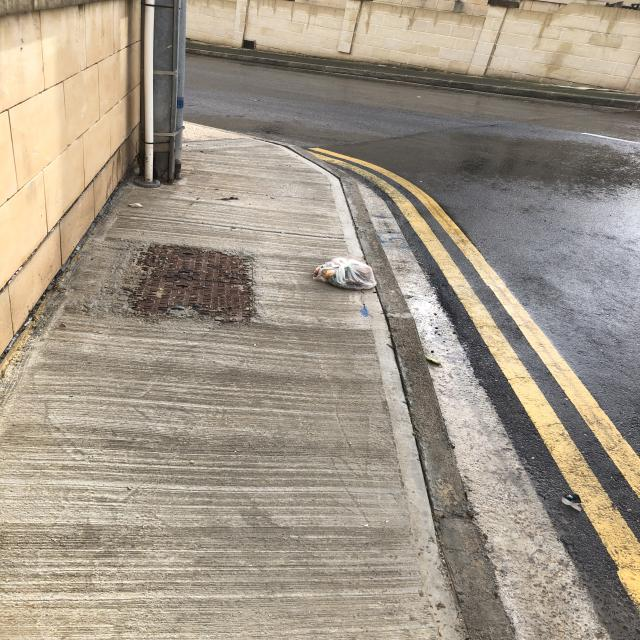Organic Waste -White Bag-: (312, 248, 383, 295)
